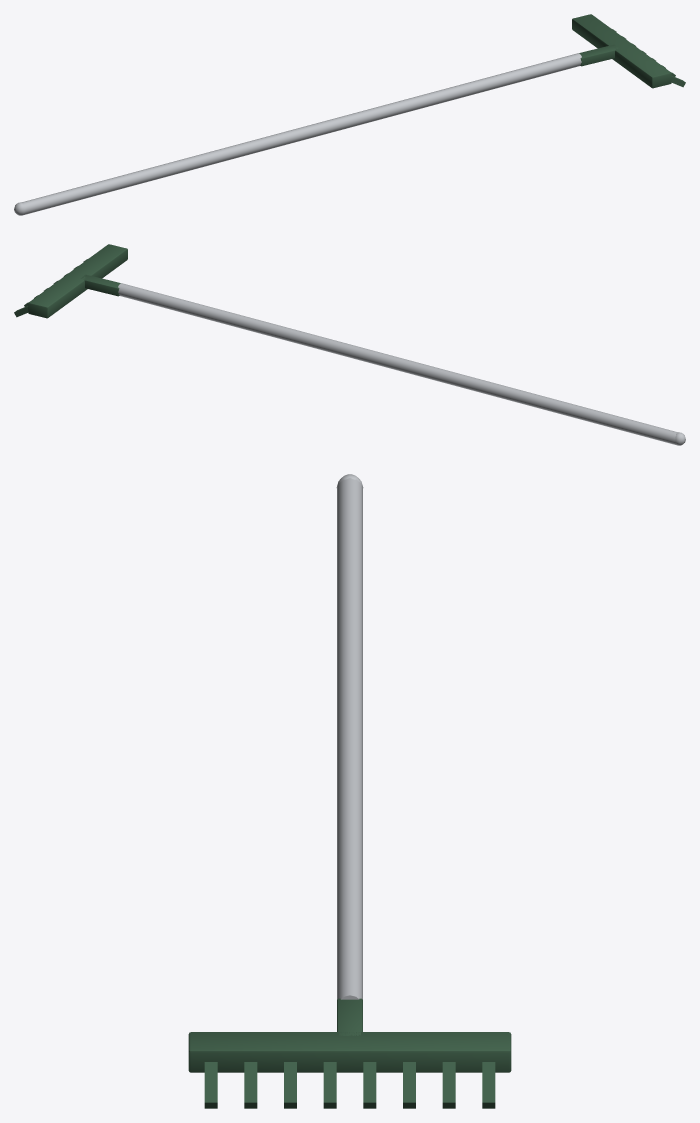
File: rake_prop.glb
3 views of the same model, one above another, from view 1: azimuth 30°, elevation 25°; view 2: azimuth 150°, elevation 25°; view 3: azimuth 270°, elevation 25° (orthographic). The views are drawn at different scales.
Visible parts, largest first — view 1: rake_prop_body; view 2: rake_prop_body; view 3: rake_prop_body.
Boxes of the visible parts, bbox=[...] form: rake_prop_body: bbox=[14, 14, 685, 215]; rake_prop_body: bbox=[14, 244, 685, 445]; rake_prop_body: bbox=[188, 474, 511, 1108].
Bounding box in the file's own units: 1.59 × 0.0602 × 0.35.
